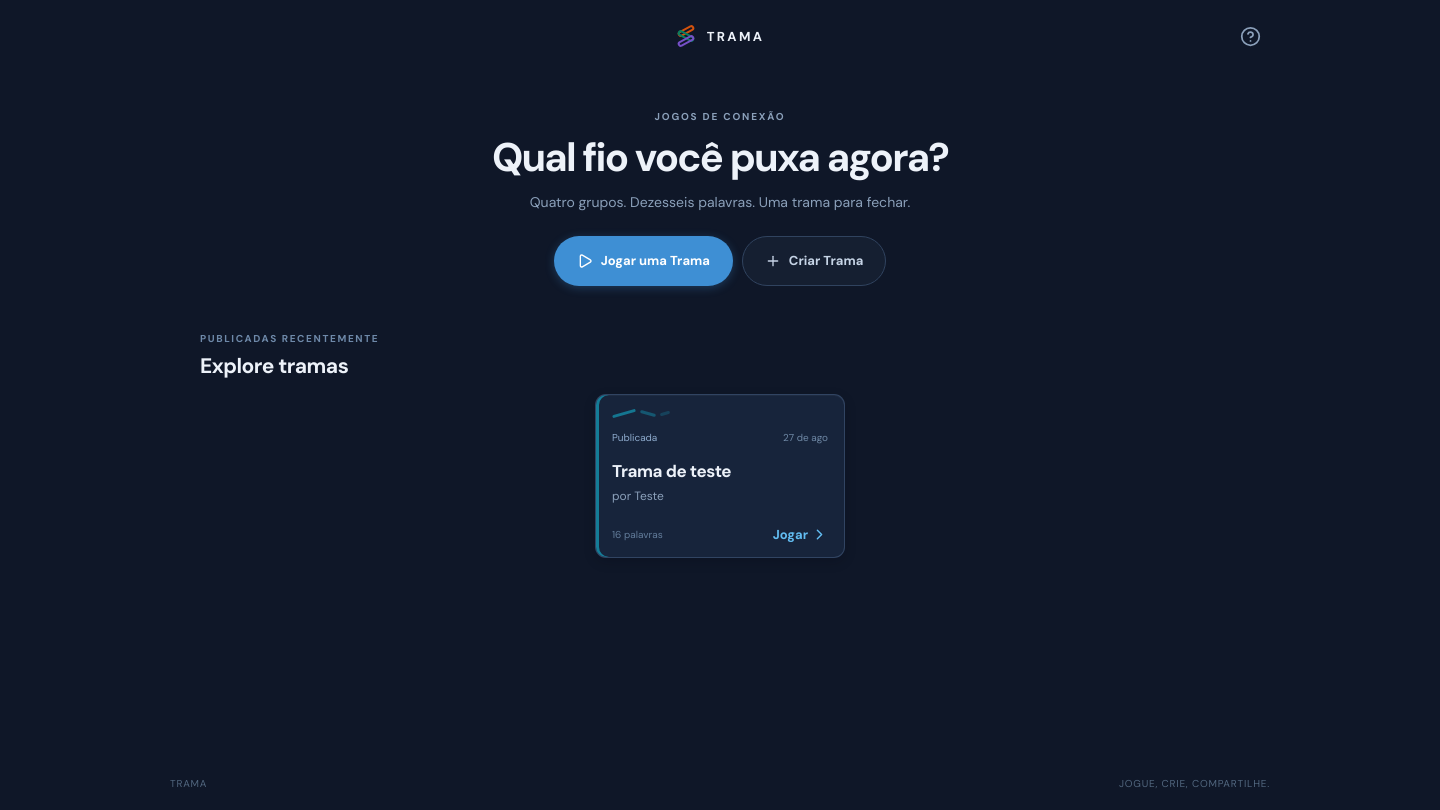
Test case: Trama › abre uma Trama real retornada pela coleção, em vez de um jogo inventado
Click the button with aria-label "Jogar Trama de teste": (720, 476) [595,394,845,558]
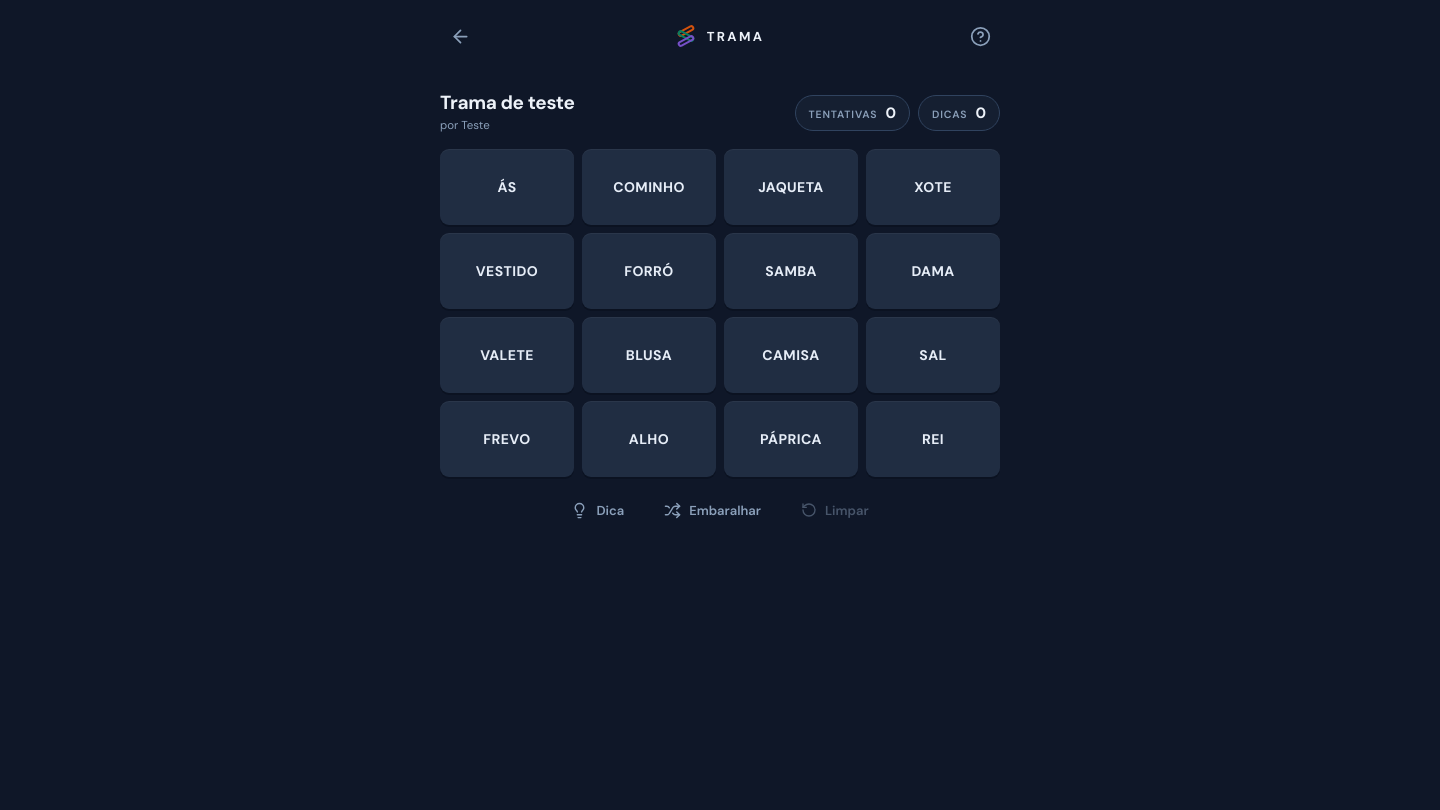
expect the heading "Trama de teste" is shown: met, box [440,92,574,114]
expect the table named "Palavras" is shown: met, box [440,149,1000,477]
